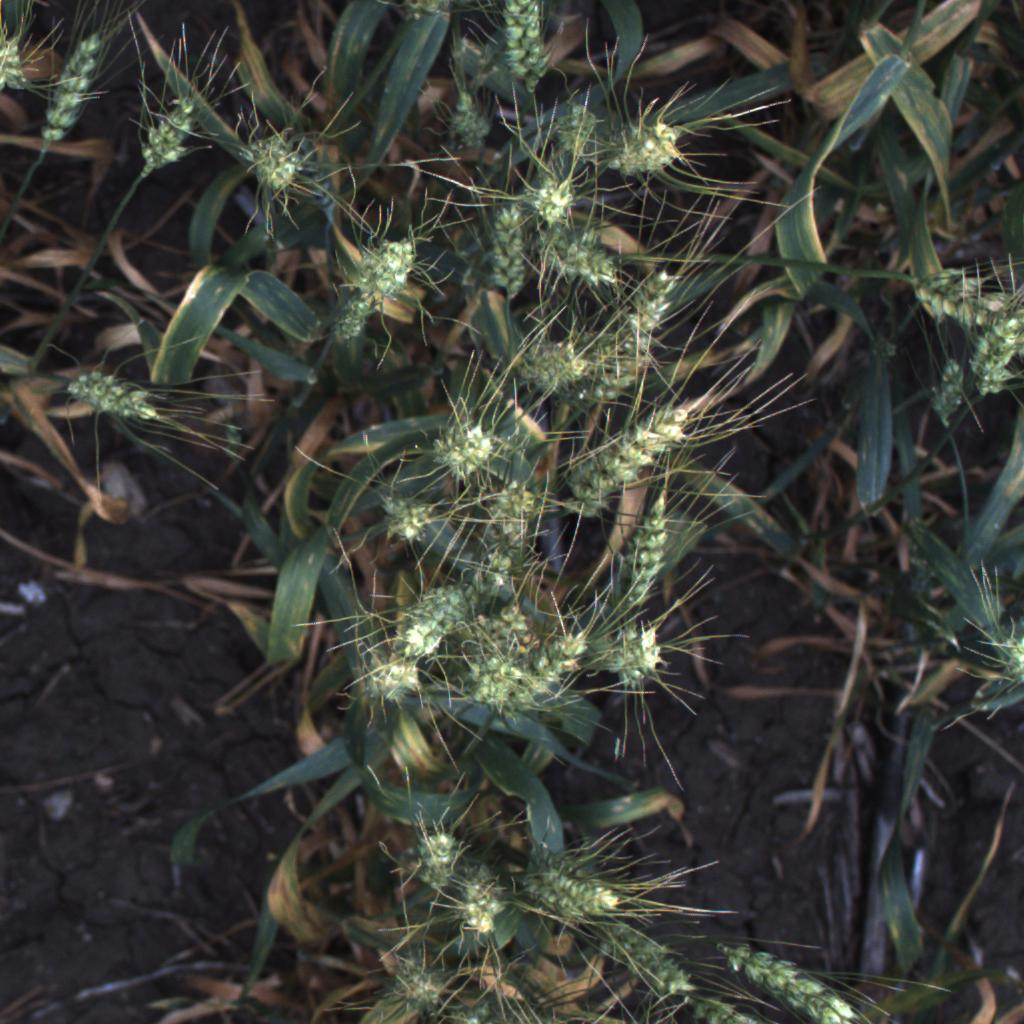0-0: (569, 401, 730, 513), (712, 937, 874, 1024), (30, 23, 116, 160), (51, 357, 181, 440), (573, 925, 701, 1000), (124, 77, 217, 180), (910, 258, 1024, 330), (515, 859, 644, 920), (232, 119, 320, 207), (503, 634, 591, 717), (617, 503, 675, 617), (608, 111, 694, 184), (492, 0, 557, 95), (537, 225, 622, 292), (422, 412, 500, 485), (361, 228, 433, 305), (475, 204, 530, 300), (515, 333, 588, 401), (970, 310, 1024, 399), (627, 267, 679, 354), (602, 626, 672, 690), (482, 476, 544, 548), (975, 622, 1024, 709), (437, 93, 500, 156), (392, 585, 473, 633), (451, 868, 505, 939), (467, 603, 535, 659), (463, 655, 523, 717), (407, 833, 467, 894), (357, 655, 421, 710), (328, 278, 383, 342), (0, 15, 39, 96), (546, 98, 600, 156), (524, 173, 586, 223), (924, 356, 967, 428), (663, 996, 764, 1024), (382, 497, 430, 549), (387, 965, 443, 1004), (592, 365, 646, 402), (405, 622, 448, 659)
